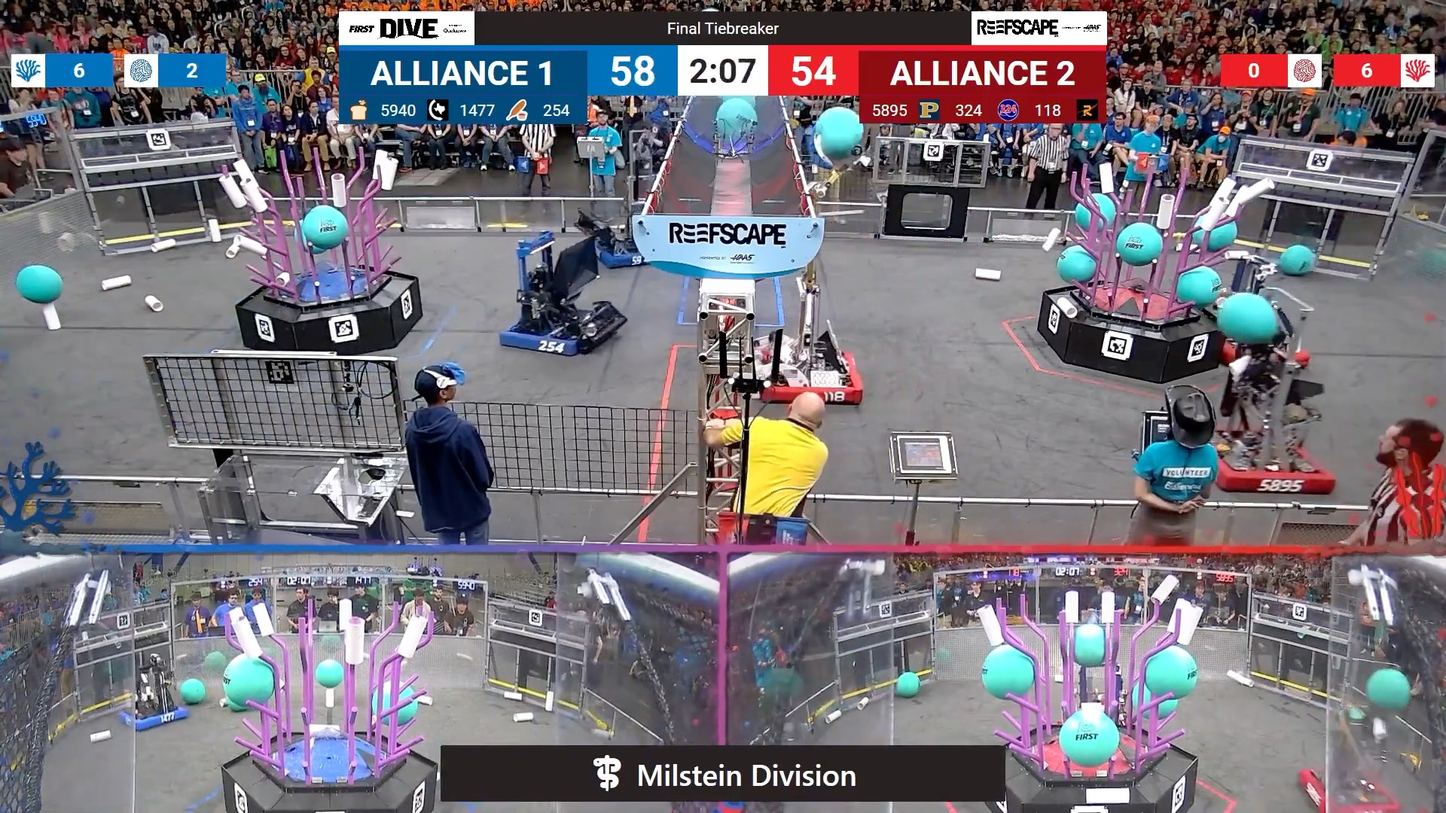bumpers: (1190, 420, 1339, 506), (495, 304, 626, 363), (764, 352, 870, 413), (1288, 761, 1399, 813), (1214, 337, 1317, 374), (584, 232, 660, 271), (115, 700, 197, 735)
